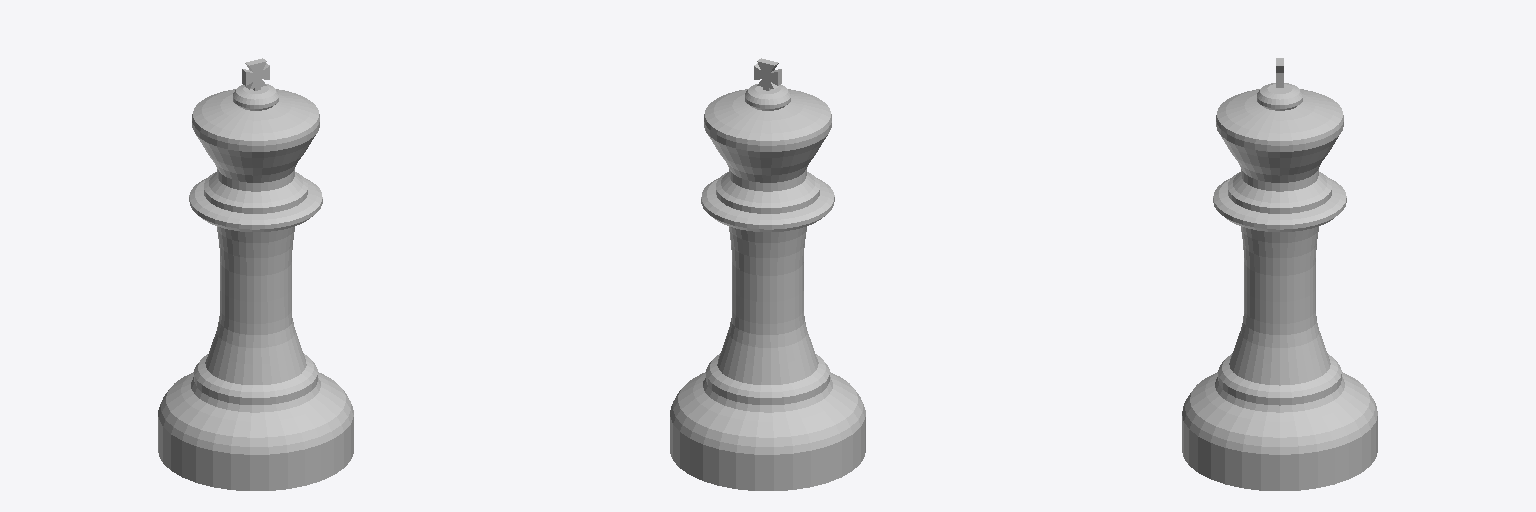
File: king.obj
3 renders of one model, left to right at view 1: azimuth 30°, elevation 25°; view 2: azimuth 150°, elevation 25°; view 3: azimuth 270°, elevation 25°, orthographic.
Visible parts, largest first — view 1: king; view 2: king; view 3: king.
Part boxes in pixels (x1,y1,x2,y2): king: (158, 58, 353, 490); king: (670, 58, 865, 490); king: (1182, 58, 1377, 490).
Size of the model in its own units: 0.8247 by 1.8 by 0.8247.